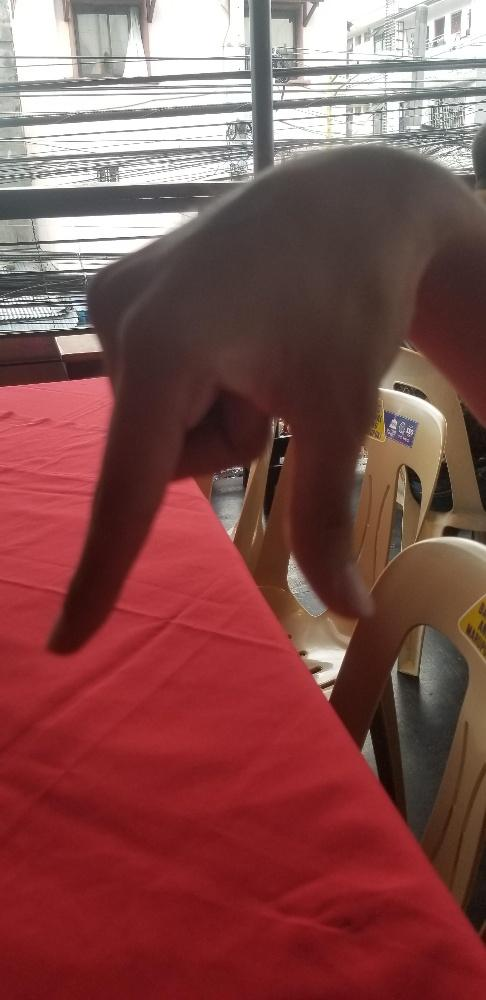q: (37, 138, 425, 658)
